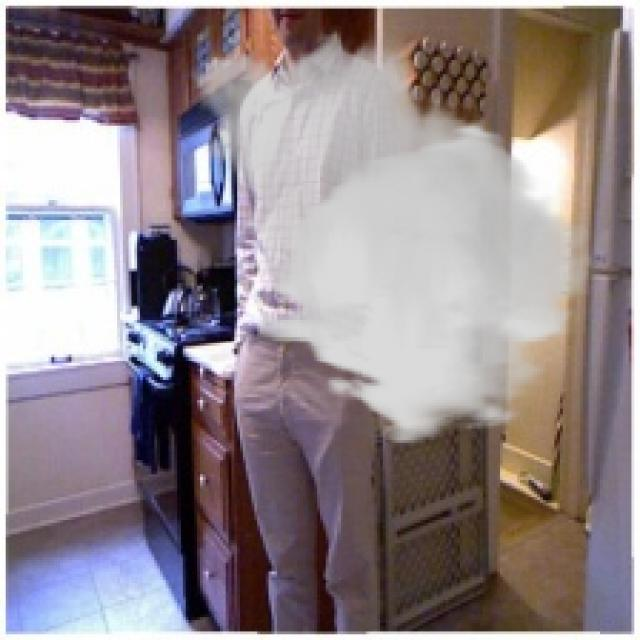smoke: (180, 26, 591, 446)
